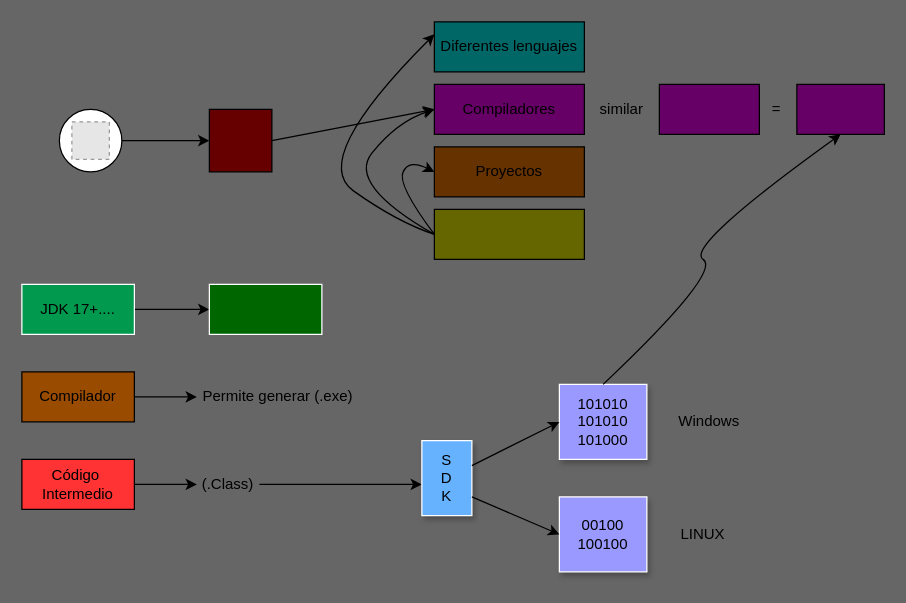
The diagram is 906 pixels wide and 603 high, and some of its shapes have lost their labels. Grey dashed boxes stand in for pictures. The shapes that lost their labels are listed below. From the top down, each one's centre as x and y in pixels, then its label:
At (x=708, y=108): "Intérpretes".
At (x=840, y=108): "ByteCode".
At (x=240, y=140): "java s.o.p".
At (x=508, y=233): "Editor".
At (x=265, y=308): "java -version".
